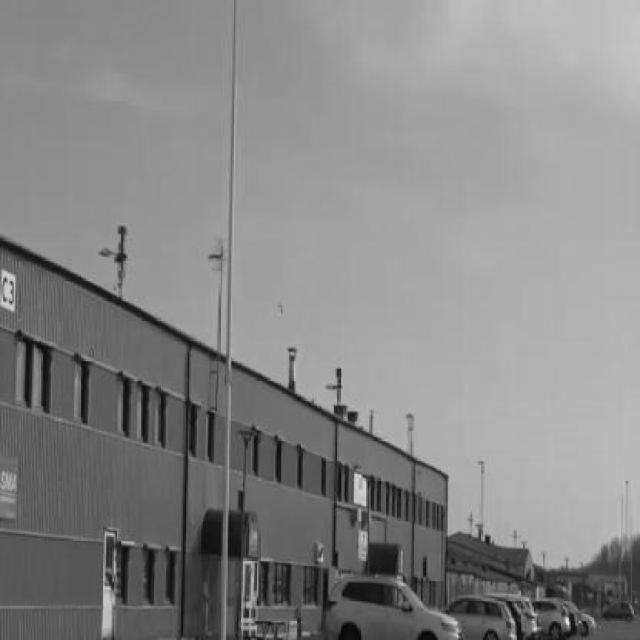helikopter: (274, 300, 288, 316)
